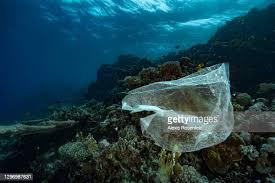Trash: (117, 72, 245, 152)
